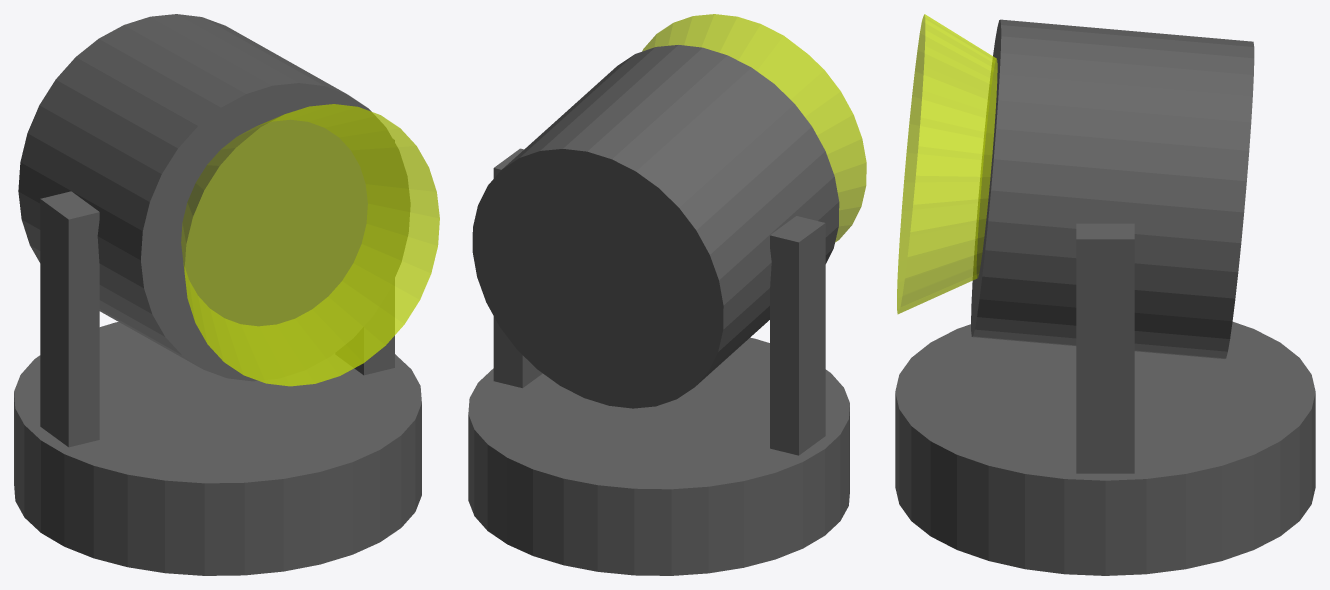
The model's file is Spotlight 1.fbx.
3 renders of one model, left to right at view 1: azimuth 30°, elevation 25°; view 2: azimuth 150°, elevation 25°; view 3: azimuth 270°, elevation 25°, orthographic. The views are drawn at different scales.
Parts seen in each view (by area): view 1: Cylinder.001, Cylinder, Cylinder.002, Cube.001, Cube.000; view 2: Cylinder.001, Cylinder, Cube.001, Cylinder.002, Cube.000; view 3: Cylinder, Cylinder.001, Cylinder.002, Cube.000.
Part boxes in pixels (bbox=[...]): Cylinder.001: bbox=[18, 14, 410, 381]; Cylinder: bbox=[14, 322, 421, 575]; Cylinder.002: bbox=[181, 104, 439, 386]; Cube.001: bbox=[40, 191, 99, 447]; Cube.000: bbox=[335, 139, 394, 375]; Cylinder.001: bbox=[472, 45, 839, 408]; Cylinder: bbox=[468, 337, 849, 575]; Cube.001: bbox=[770, 216, 825, 455]; Cylinder.002: bbox=[642, 14, 866, 242]; Cube.000: bbox=[493, 148, 542, 388]; Cylinder: bbox=[895, 322, 1315, 575]; Cylinder.001: bbox=[971, 19, 1254, 358]; Cylinder.002: bbox=[897, 14, 997, 314]; Cube.000: bbox=[1076, 223, 1134, 473].
Bounding box in the file's own units: 200 × 241 × 200.
